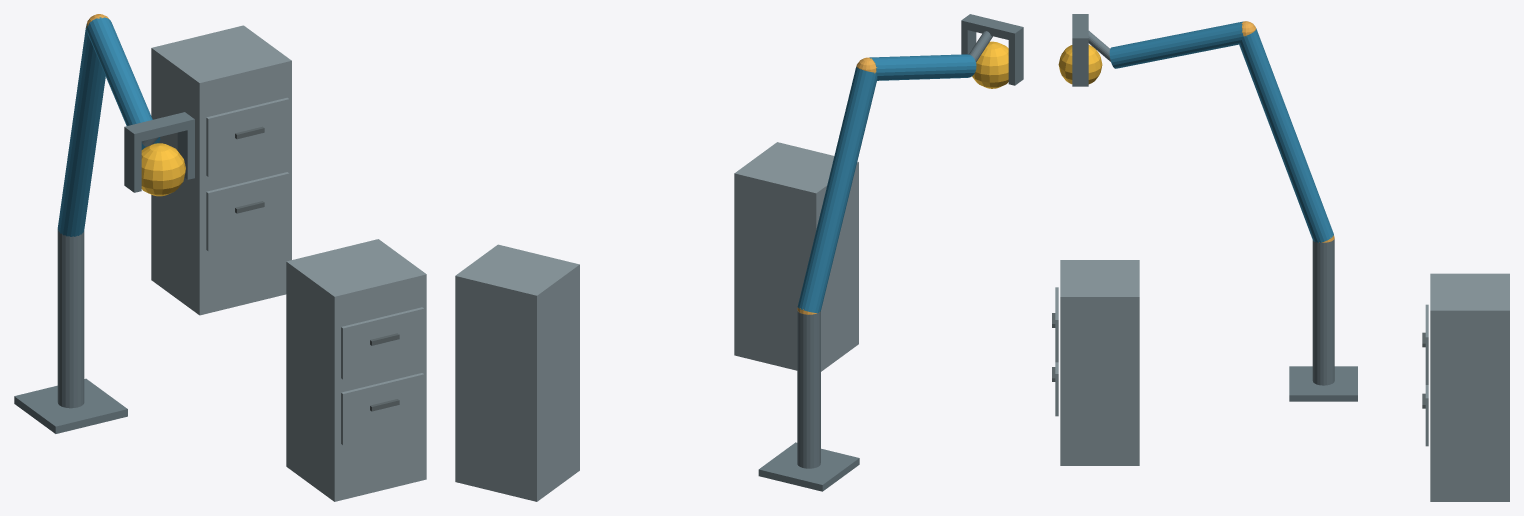
3 renders of one model, left to right at view 1: azimuth 30°, elevation 25°; view 2: azimuth 150°, elevation 25°; view 3: azimuth 270°, elevation 25°, orthographic. The views are drawn at different scales.
Visible parts, largest first — view 1: cabinet_1 body, cabinet_2 body, moving link 1, cabinet_2 drawer front, cabinet_2 drawer front.001, fixed post, cabinet_1 drawer front, cabinet_1 drawer front.001, pedestal, moving link 2, ball ball_1, gripper bridge (+2 smaller); view 2: cabinet_2 body, cabinet_1 body, moving link 1, fixed post, pedestal, moving link 2, ball ball_1, gripper bridge, gripper finger -1; view 3: cabinet_2 body, cabinet_1 body, moving link 1, fixed post, moving link 2, pedestal, ball ball_1, gripper finger 1, gripper bridge.
Part boxes in pixels (x1,y1,x2,y2): cabinet_1 body: (286, 239, 426, 501); cabinet_2 body: (151, 25, 291, 315); moving link 1: (57, 23, 105, 236); cabinet_2 drawer front: (206, 172, 289, 251); cabinet_2 drawer front.001: (206, 97, 289, 176); fixed post: (57, 228, 84, 408); cabinet_1 drawer front: (341, 373, 424, 445); cabinet_1 drawer front.001: (341, 307, 424, 379); pedestal: (14, 378, 127, 433); moving link 2: (86, 17, 160, 149); ball ball_1: (141, 143, 185, 196); gripper bridge: (124, 112, 194, 142); cabinet_2 body: (455, 244, 579, 501); cabinet_1 body: (734, 142, 858, 371); moving link 1: (797, 66, 877, 313); fixed post: (797, 310, 820, 468); pedestal: (758, 442, 859, 491); moving link 2: (869, 54, 976, 80); ball ball_1: (972, 41, 1008, 88); gripper bridge: (961, 14, 1023, 41); gripper finger -1: (1008, 35, 1023, 85); cabinet_2 body: (1430, 273, 1509, 501); cabinet_1 body: (1060, 260, 1139, 465); moving link 1: (1239, 28, 1333, 242); fixed post: (1312, 239, 1334, 385); moving link 2: (1109, 21, 1243, 68); pedestal: (1289, 366, 1357, 401); ball ball_1: (1058, 45, 1102, 84); gripper finger 1: (1072, 45, 1088, 86); gripper bridge: (1072, 14, 1088, 45).
Bounding box in the file's own units: 1.3 × 1.44 × 1.67.
